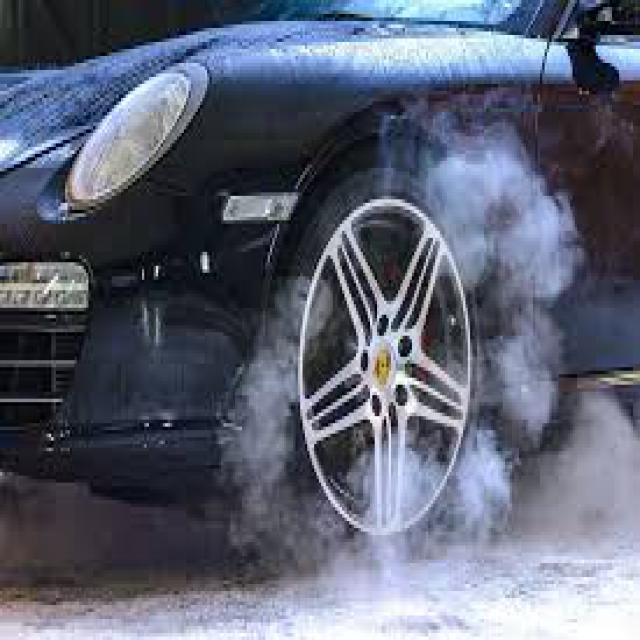smoke: (238, 105, 608, 622)
